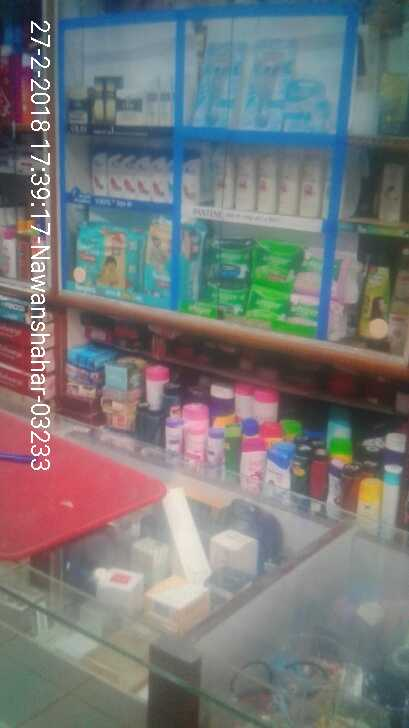venus: (196, 38, 243, 124), (249, 40, 283, 130), (283, 84, 329, 130)
